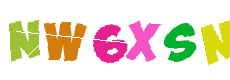6: (73, 0, 153, 80)
N: (0, 0, 80, 80), (149, 0, 229, 80)
S: (140, 0, 220, 80)
W: (24, 0, 104, 80)
X: (84, 0, 164, 80)
